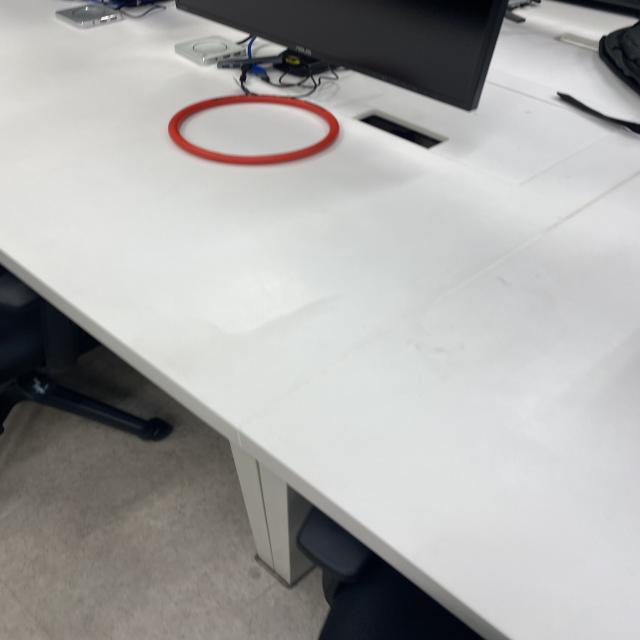daire: (164, 93, 345, 169)
